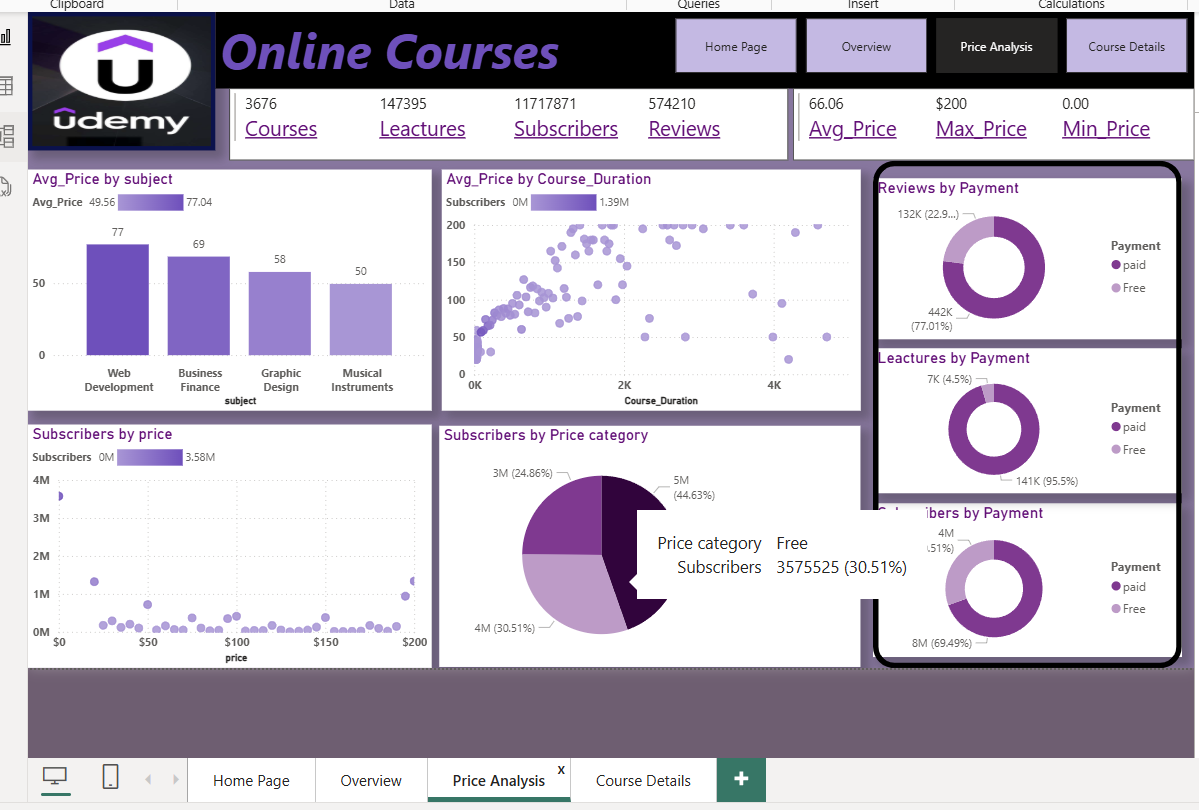

Layout of this report page (visuals, bound fields, positions):
{"tool":"powerbi","page":{"name":"Price Analysis","canvas":[1280,720],"ordinal":2},"visuals":[{"type":"image","box":[0,0,205.8,152.3],"z":0},{"type":"textbox","box":[205.8,0,1074.4,83.7],"z":1000},{"type":"multiRowCard","fields":{"Values":["udemy.Courses","udemy.Leactures","udemy.Subscribers","udemy.Reviews"]},"box":[220.9,83.7,613.4,79.6],"z":2000},{"type":"multiRowCard","fields":{"Values":["udemy.Avg_Price","udemy.Max_Price","udemy.Min_Price"]},"box":[839.8,83.7,440.5,79.6],"z":3000},{"type":"columnChart","fields":{"Category":["udemy.subject"],"Y":["udemy.Avg_Price"]},"box":[0,172.9,443.2,264.8],"z":4000},{"type":"scatterChart","fields":{"X":["udemy.price"],"Y":["udemy.Subscribers"]},"box":[0,452.8,443.2,267.6],"z":5000},{"type":"scatterChart","fields":{"Y":["udemy.Avg_Price"],"X":["udemy.Course_Duration"]},"box":[454.2,172.9,459.7,264.8],"z":6000},{"type":"pieChart","fields":{"Category":["udemy.Price category"],"Y":["udemy.Subscribers"]},"box":[451.5,454.2,462.4,264.8],"z":7000},{"type":"donutChart","fields":{"Y":["udemy.Subscribers"],"Category":["udemy.Payment"]},"box":[927.6,539.3,338.9,168.8],"z":8000},{"type":"donutChart","fields":{"Y":["udemy.Reviews"],"Category":["udemy.Payment"]},"box":[927.6,182.5,338.9,177],"z":9000},{"type":"donutChart","fields":{"Y":["udemy.Leactures"],"Category":["udemy.Payment"]},"box":[927.6,369.1,338.9,159.2],"z":10000},{"type":"shape","box":[927.6,163.3,338.9,557.1],"z":11000},{"type":"pageNavigator","box":[710.8,6.9,564,60.4],"z":12000}]}

Visuals, with their boxes in screenshot pixels (x1, y1, x2, y2):
image: {"left": 19, "top": 6, "right": 209, "bottom": 147}
textbox: {"left": 209, "top": 6, "right": 1198, "bottom": 84}
multiRowCard - udemy.Courses x udemy.Leactures: {"left": 223, "top": 84, "right": 789, "bottom": 157}
multiRowCard - udemy.Avg_Price x udemy.Max_Price: {"left": 795, "top": 84, "right": 1198, "bottom": 157}
columnChart - udemy.subject x udemy.Avg_Price: {"left": 19, "top": 166, "right": 428, "bottom": 411}
scatterChart - udemy.price x udemy.Subscribers: {"left": 19, "top": 425, "right": 428, "bottom": 672}
scatterChart - udemy.Avg_Price x udemy.Course_Duration: {"left": 438, "top": 166, "right": 863, "bottom": 411}
pieChart - udemy.Price category x udemy.Subscribers: {"left": 436, "top": 426, "right": 863, "bottom": 670}
donutChart - udemy.Subscribers x udemy.Payment: {"left": 876, "top": 504, "right": 1189, "bottom": 660}
donutChart - udemy.Reviews x udemy.Payment: {"left": 876, "top": 175, "right": 1189, "bottom": 338}
donutChart - udemy.Leactures x udemy.Payment: {"left": 876, "top": 347, "right": 1189, "bottom": 494}
shape: {"left": 876, "top": 157, "right": 1189, "bottom": 672}
pageNavigator: {"left": 675, "top": 13, "right": 1196, "bottom": 68}
